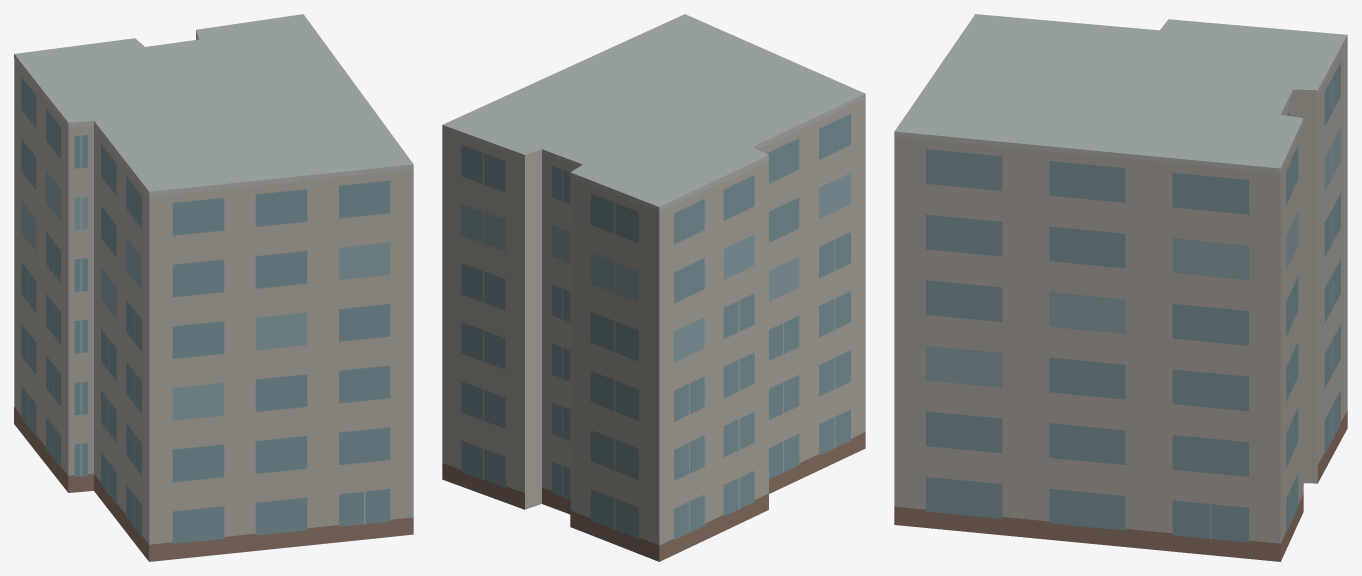
Rendered from survey-upis-32589025.glb.
The picture shows the model from 3 angles, left to right: view 1: azimuth 30°, elevation 25°; view 2: azimuth 150°, elevation 25°; view 3: azimuth 270°, elevation 25°; orthographic projection. The views are drawn at different scales.
Visible parts, largest first — view 1: survey-upis-32589025.tmp; view 2: survey-upis-32589025.tmp; view 3: survey-upis-32589025.tmp.
Part boxes in pixels (x1=…): survey-upis-32589025.tmp: x1=14, y1=14, x2=413, y2=561; survey-upis-32589025.tmp: x1=442, y1=14, x2=865, y2=561; survey-upis-32589025.tmp: x1=894, y1=14, x2=1347, y2=561.
Size of the model in its own units: 15.42 by 18.3 by 19.12.
